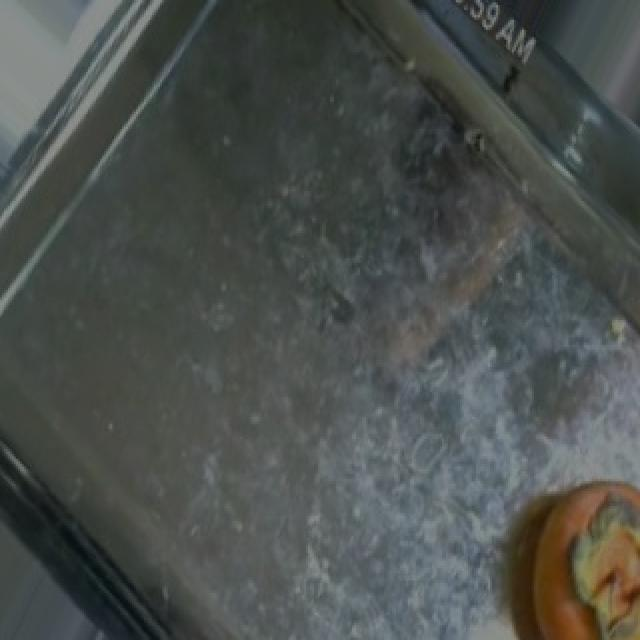Fruit: (492, 462, 640, 638)
